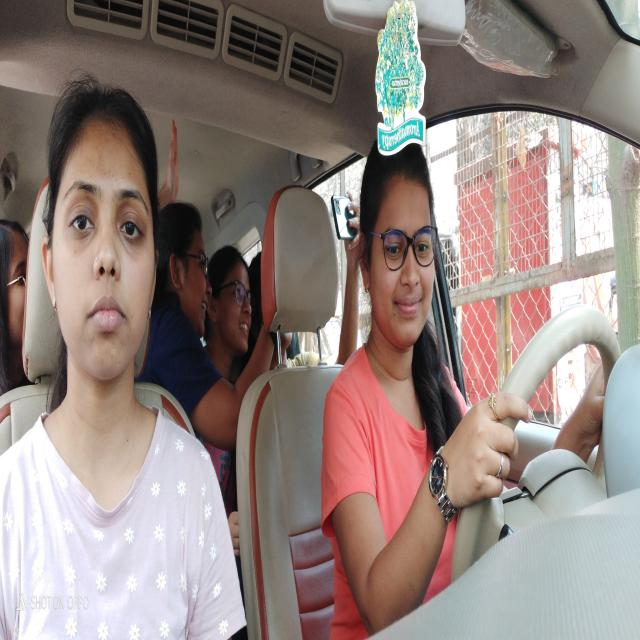person: (54, 113, 160, 384), (361, 159, 437, 347), (168, 219, 210, 334), (216, 250, 254, 362), (4, 236, 28, 350)
